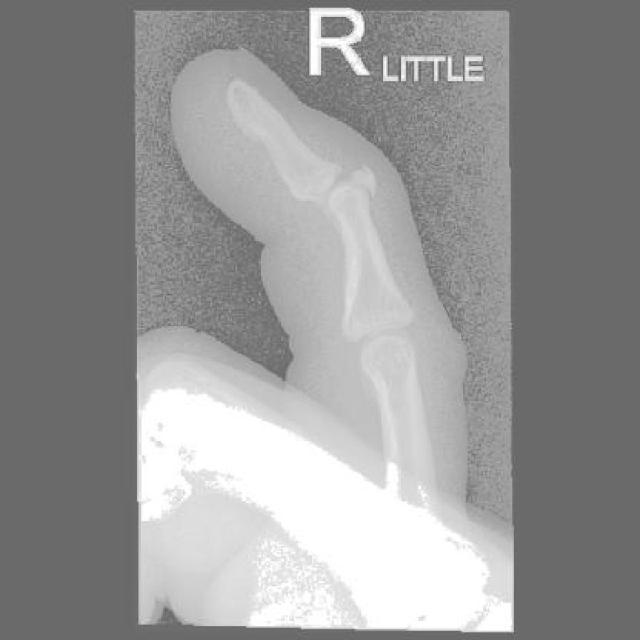Fracture: (313, 151, 379, 200)
